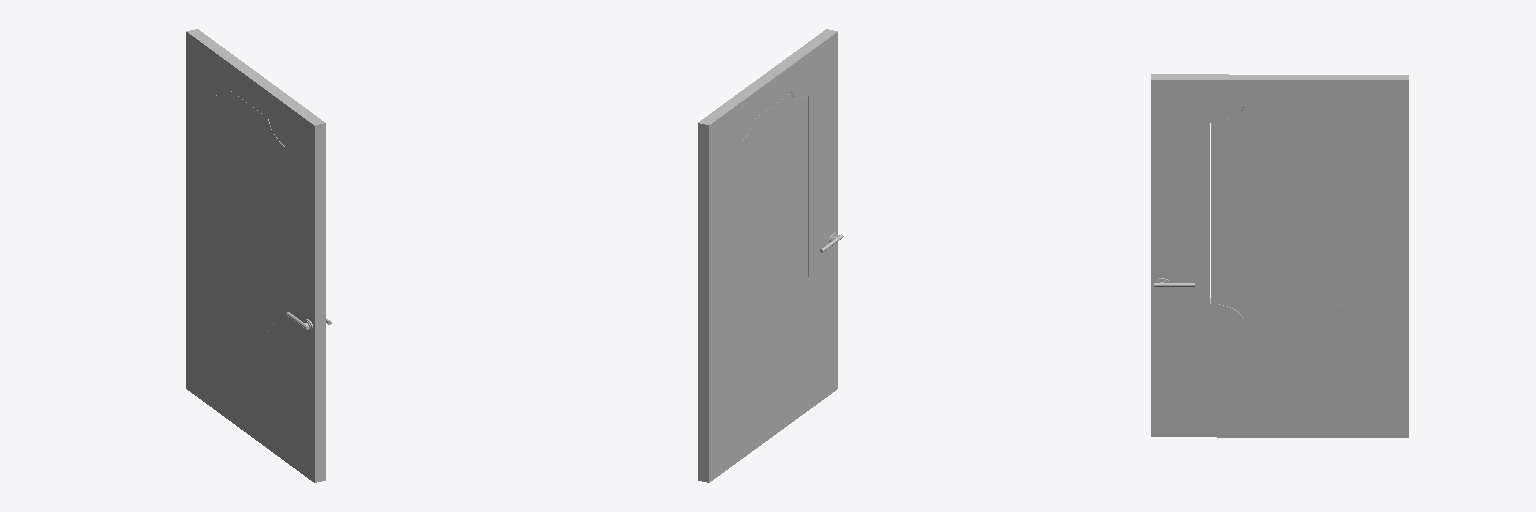
File: PuertaIzquierdaP.obj
The picture shows the model from 3 angles: view 1: azimuth 30°, elevation 25°; view 2: azimuth 150°, elevation 25°; view 3: azimuth 270°, elevation 25°; orthographic projection.
Visible parts, largest first — view 1: Puerta.1.1_Door.004, Puerta.1.1_Door_glass.002; view 2: Puerta.1.1_Door.004, Puerta.1.1_Door_glass.002; view 3: Puerta.1.1_Door.004, Puerta.1.1_Door_glass.002.
Part boxes in pixels (left/top/right/bottom): Puerta.1.1_Door.004: left=186, top=29, right=325, bottom=482; Puerta.1.1_Door_glass.002: left=211, top=91, right=284, bottom=331; Puerta.1.1_Door.004: left=698, top=29, right=837, bottom=482; Puerta.1.1_Door_glass.002: left=735, top=93, right=807, bottom=333; Puerta.1.1_Door.004: left=1151, top=74, right=1408, bottom=437; Puerta.1.1_Door_glass.002: left=1211, top=107, right=1356, bottom=319.
Size of the model in its own units: 2.44 by 32.94 by 21.47.